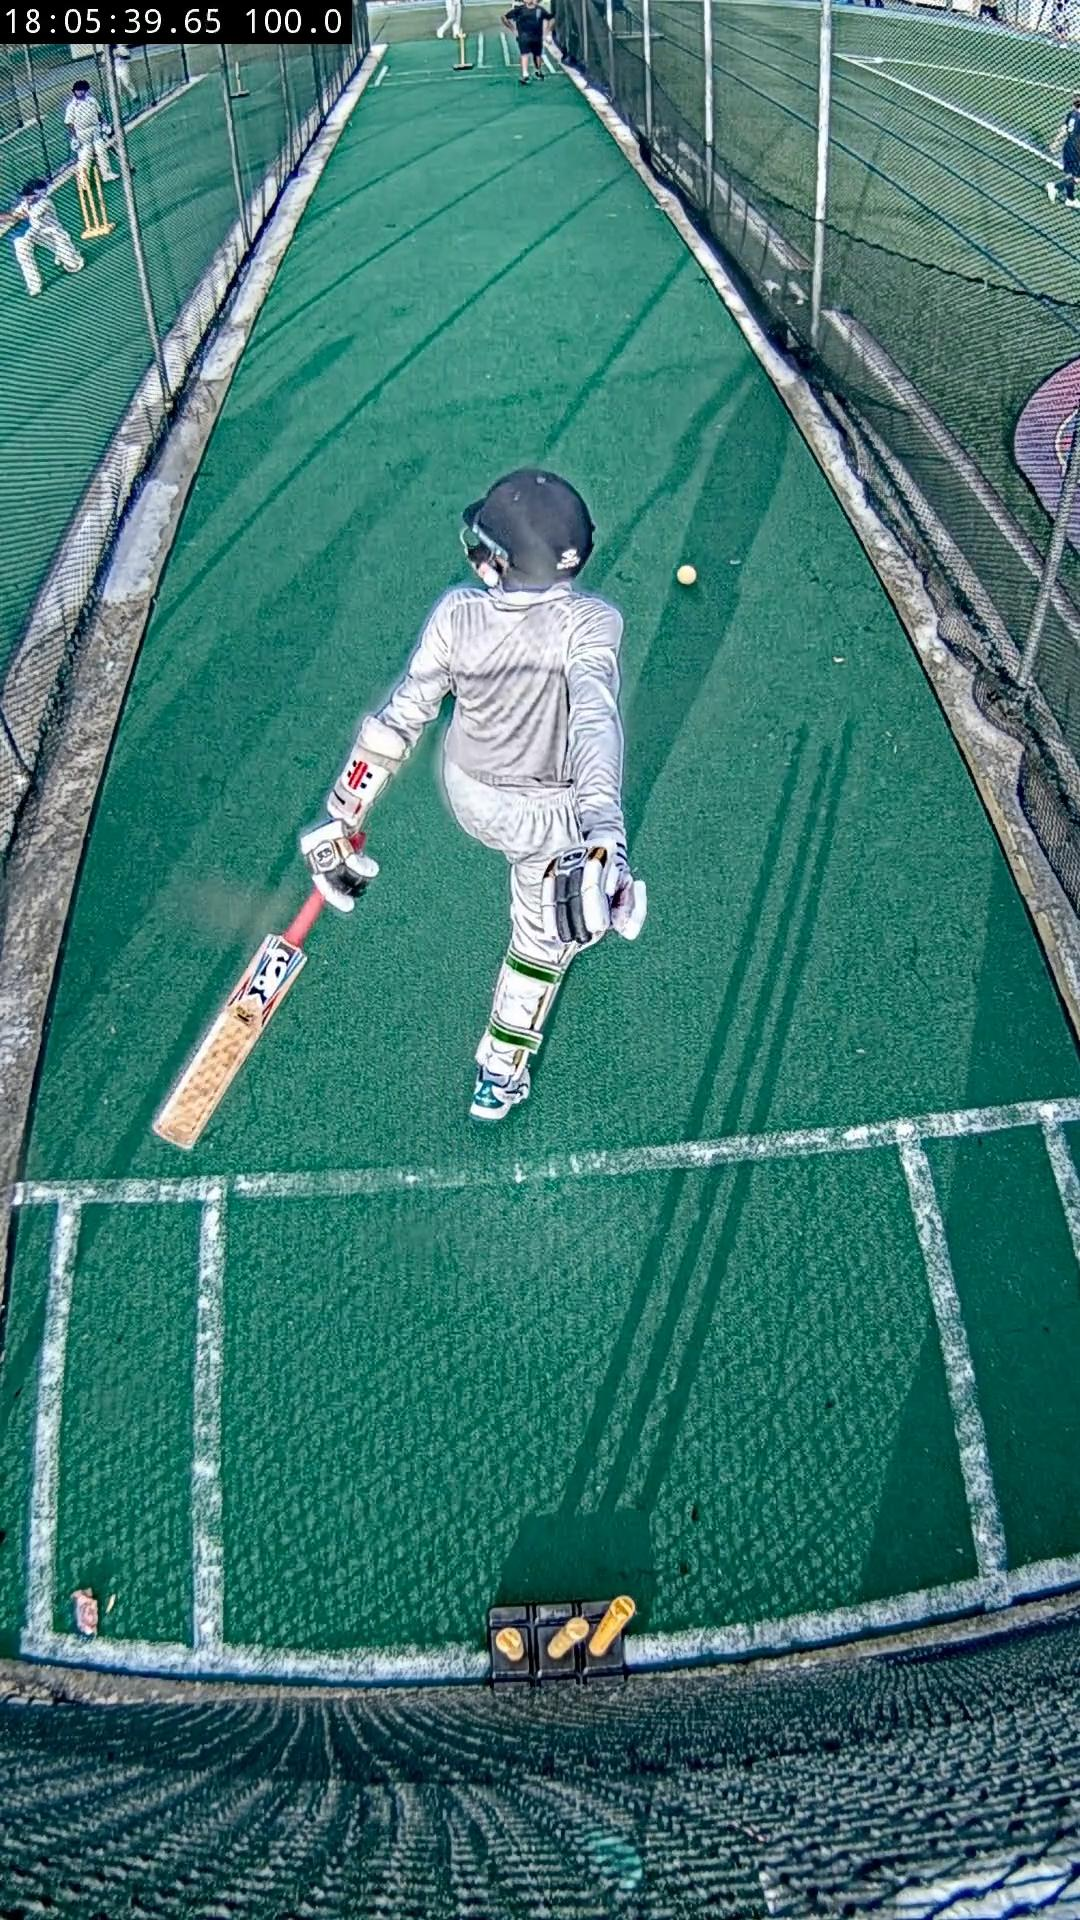ball: (675, 563, 698, 585)
bat: (154, 934, 303, 1147)
gloves: (551, 844, 649, 945), (301, 818, 378, 911)
helmet: (476, 468, 592, 585)
stumps: (488, 1594, 637, 1681)
